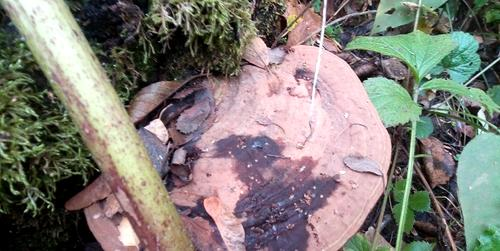Ganoderma - Fruit Body: (84, 43, 391, 251)
